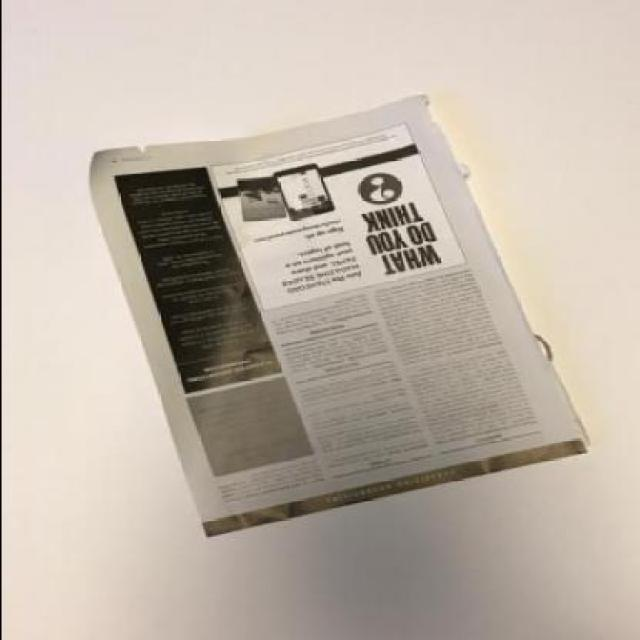paper: (91, 94, 589, 537)
